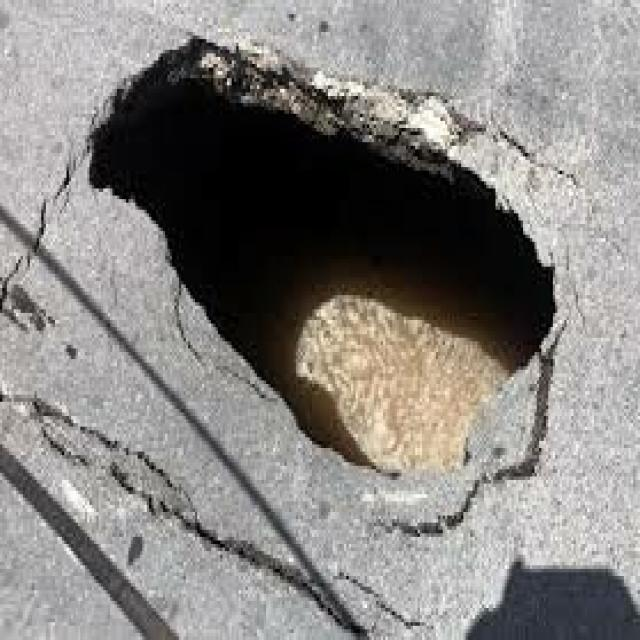Pothole: (51, 21, 598, 594)
